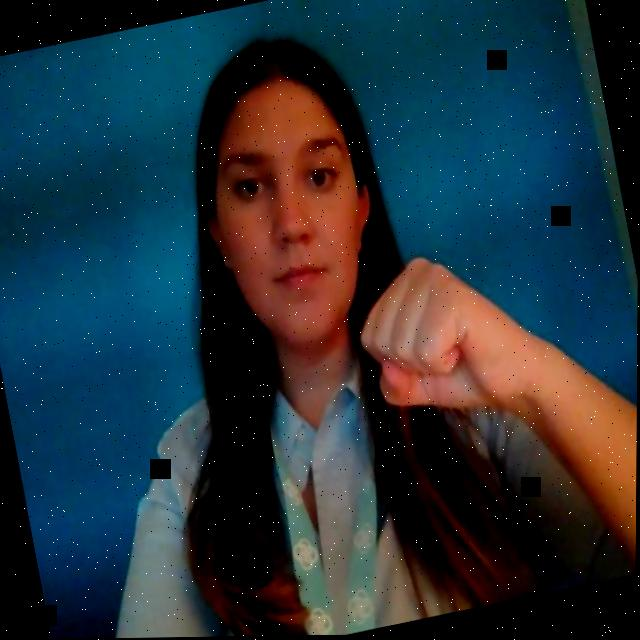Rock: (338, 237, 521, 430)
